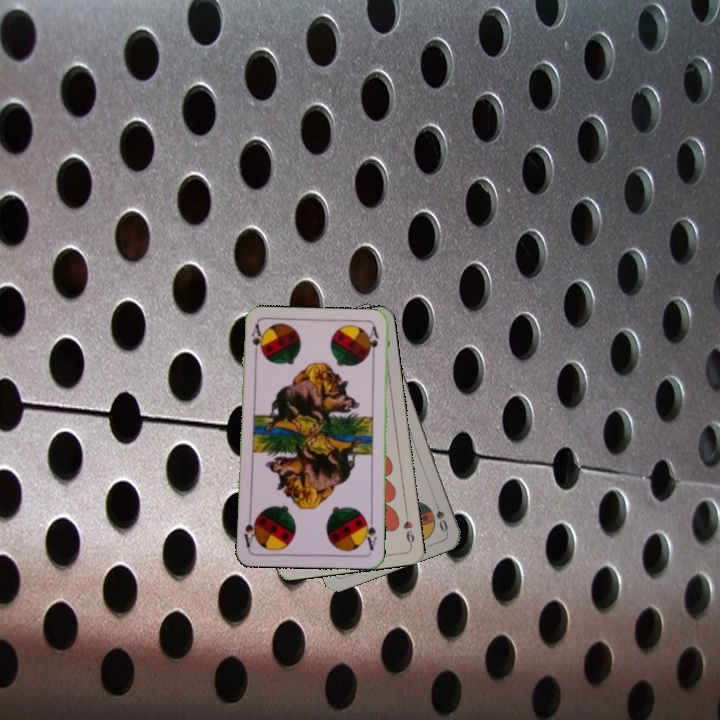H9: (399, 508, 417, 548)
SA: (360, 512, 379, 553), (247, 321, 264, 361)
SO: (429, 495, 450, 535)
